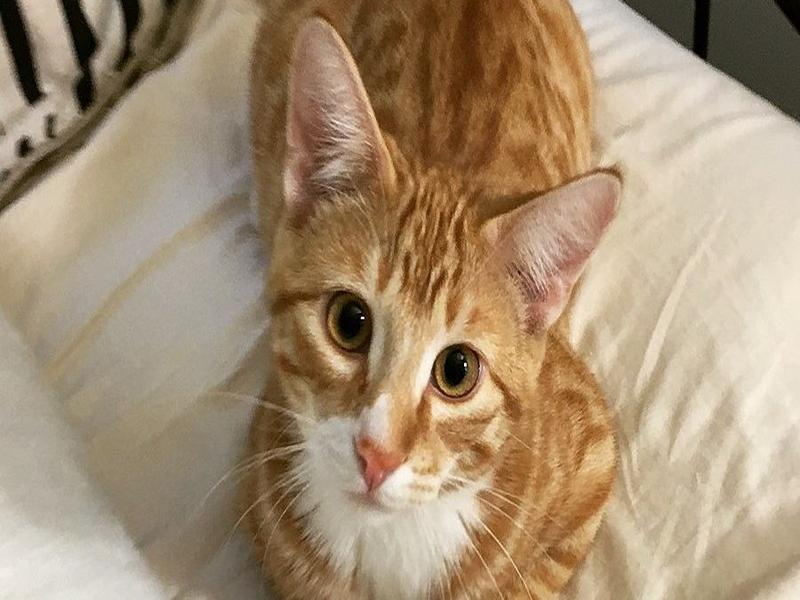cat: (224, 3, 631, 598)
